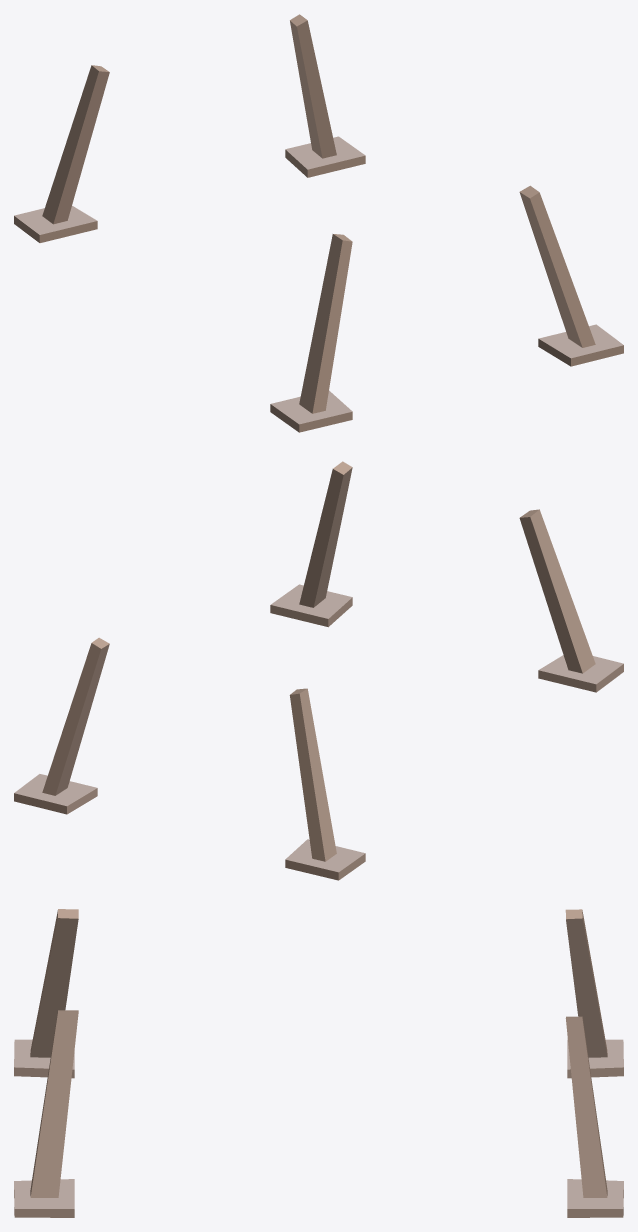
The model's file is boat_legs.glb.
3 renders of one model, top to bottom at view 1: azimuth 30°, elevation 25°; view 2: azimuth 150°, elevation 25°; view 3: azimuth 270°, elevation 25°, orthographic. The views are drawn at different scales.
Visible parts, largest first — view 1: boat_legs; view 2: boat_legs; view 3: boat_legs.
Boxes of the visible parts, x1=… form: boat_legs: x1=14, y1=14, x2=623, y2=432; boat_legs: x1=14, y1=461, x2=623, y2=880; boat_legs: x1=14, y1=909, x2=623, y2=1217.
Size of the model in its own units: 2.39 by 1.13 by 3.63.
